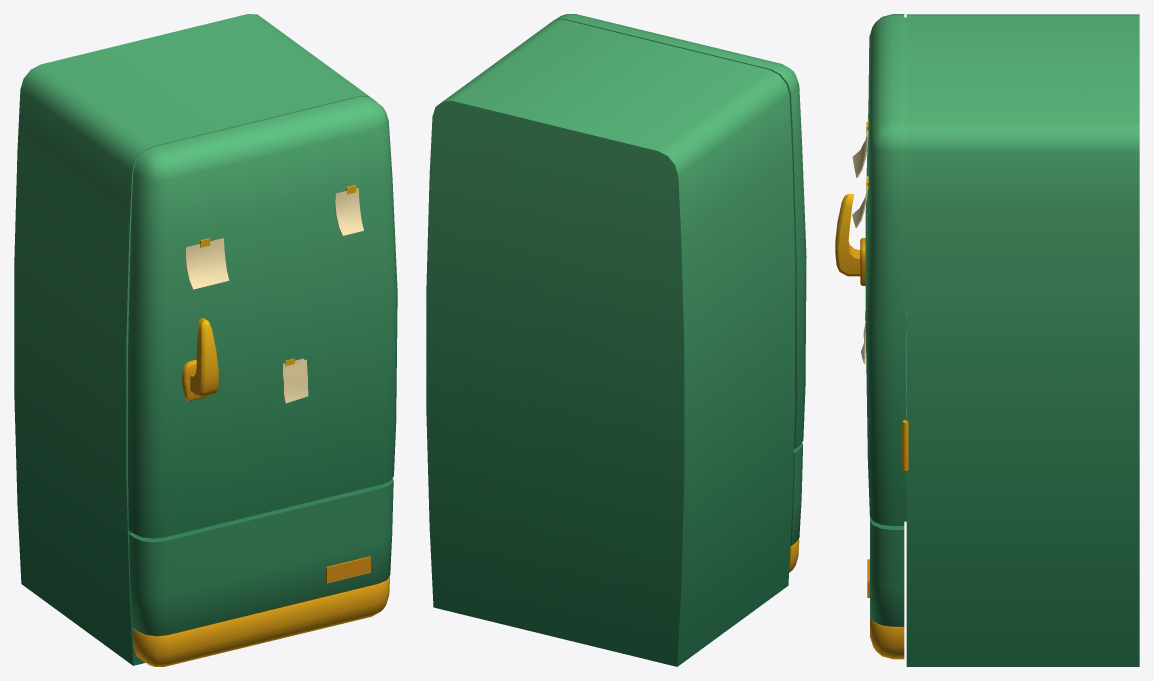
Rendered from Fridge.fbx.
The picture shows the model from 3 angles, left to right: view 1: azimuth 30°, elevation 25°; view 2: azimuth 150°, elevation 25°; view 3: azimuth 270°, elevation 25°; orthographic projection. The views are drawn at different scales.
Visible parts, largest first — view 1: FridgeDoor.001, Fridge.005, FridgeBase.001; view 2: Fridge.005, FridgeDoor.001, FridgeBase.001; view 3: Fridge.005, FridgeDoor.001, FridgeBase.001.
Boxes of the visible parts, x1=… form: FridgeDoor.001: x1=128, y1=96, x2=397, y2=538; Fridge.005: x1=14, y1=14, x2=376, y2=665; FridgeBase.001: x1=129, y1=478, x2=393, y2=666; Fridge.005: x1=426, y1=19, x2=795, y2=666; FridgeDoor.001: x1=555, y1=14, x2=806, y2=448; FridgeBase.001: x1=789, y1=443, x2=802, y2=572; Fridge.005: x1=906, y1=14, x2=1139, y2=666; FridgeDoor.001: x1=835, y1=14, x2=906, y2=525; FridgeBase.001: x1=867, y1=517, x2=904, y2=659.
Size of the model in its own units: 115 by 216 by 111.
